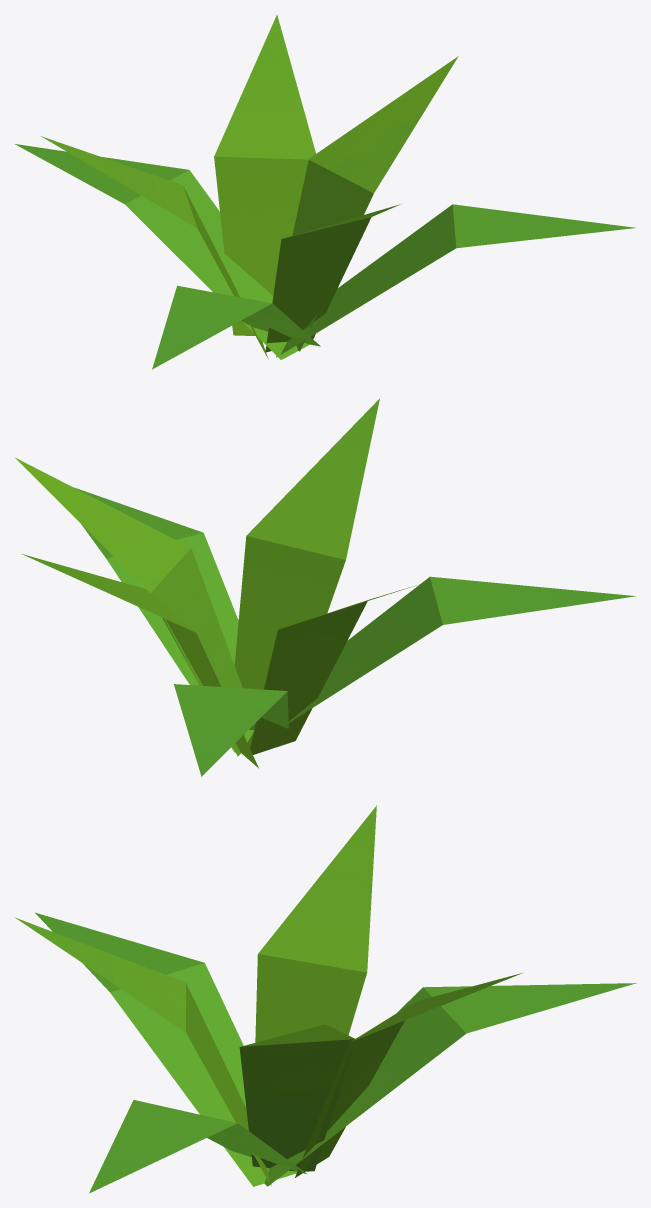
File: grass.fbx
3 views of the same model, one above another, from view 1: azimuth 30°, elevation 25°; view 2: azimuth 150°, elevation 25°; view 3: azimuth 270°, elevation 25° (orthographic). The views are drawn at different scales.
Visible parts, largest first — view 1: grass-clumb; view 2: grass-clumb; view 3: grass-clumb.
Part boxes in pixels (x1,y1,x2,y2): grass-clumb: (15, 14, 635, 369); grass-clumb: (15, 398, 636, 776); grass-clumb: (14, 805, 636, 1193).
Size of the model in its own units: 90.02 by 38.24 by 84.23.
1 material, 1 textured.
